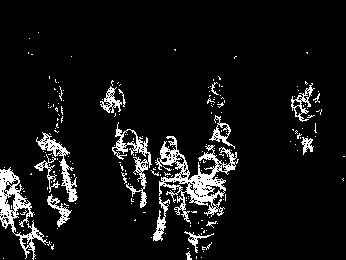person: (184, 153, 228, 259), (151, 133, 192, 241), (33, 131, 77, 228), (112, 126, 152, 211), (289, 76, 324, 160), (202, 120, 238, 181), (97, 77, 128, 128)
